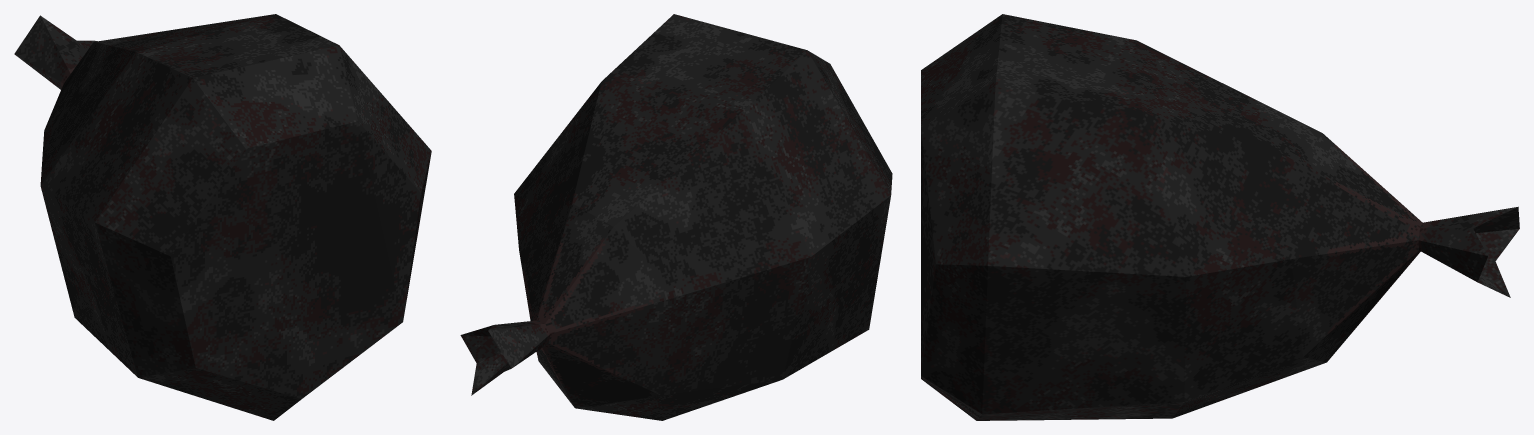
The model's file is RubbishBag.fbx.
3 views of the same model, side by side, from view 1: azimuth 30°, elevation 25°; view 2: azimuth 150°, elevation 25°; view 3: azimuth 270°, elevation 25° (orthographic). The views are drawn at different scales.
Parts seen in each view (by area): view 1: RubbishBag; view 2: RubbishBag; view 3: RubbishBag.
Part boxes in pixels (bbox=[...]): RubbishBag: bbox=[14, 14, 431, 420]; RubbishBag: bbox=[460, 14, 892, 420]; RubbishBag: bbox=[921, 14, 1519, 420].
Size of the model in its own units: 0.3209 by 0.3313 by 0.4833.
